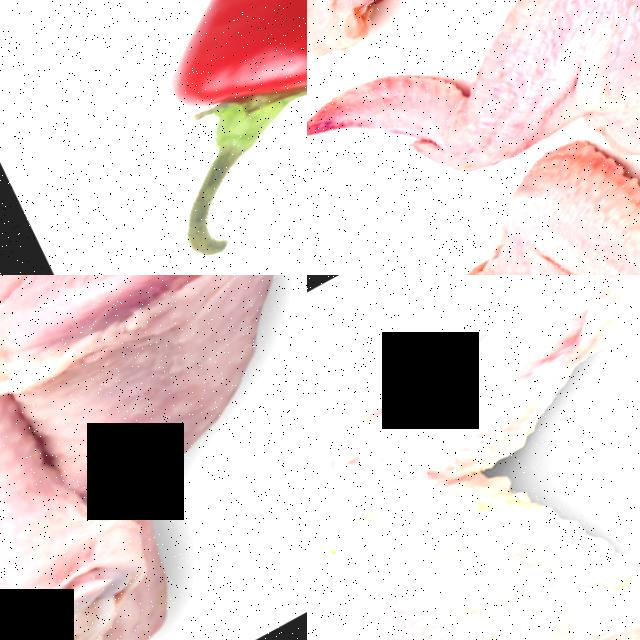chicken wing: (307, 275, 640, 640), (307, 0, 640, 270), (403, 20, 640, 275), (307, 0, 640, 79)
chilli: (0, 0, 307, 221)
